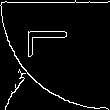L_E: (30, 40, 80, 70)
